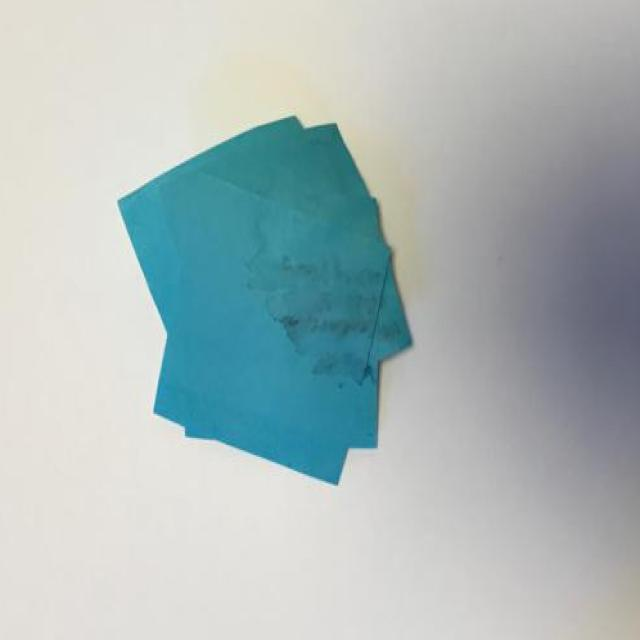kertas: (115, 111, 416, 490)
